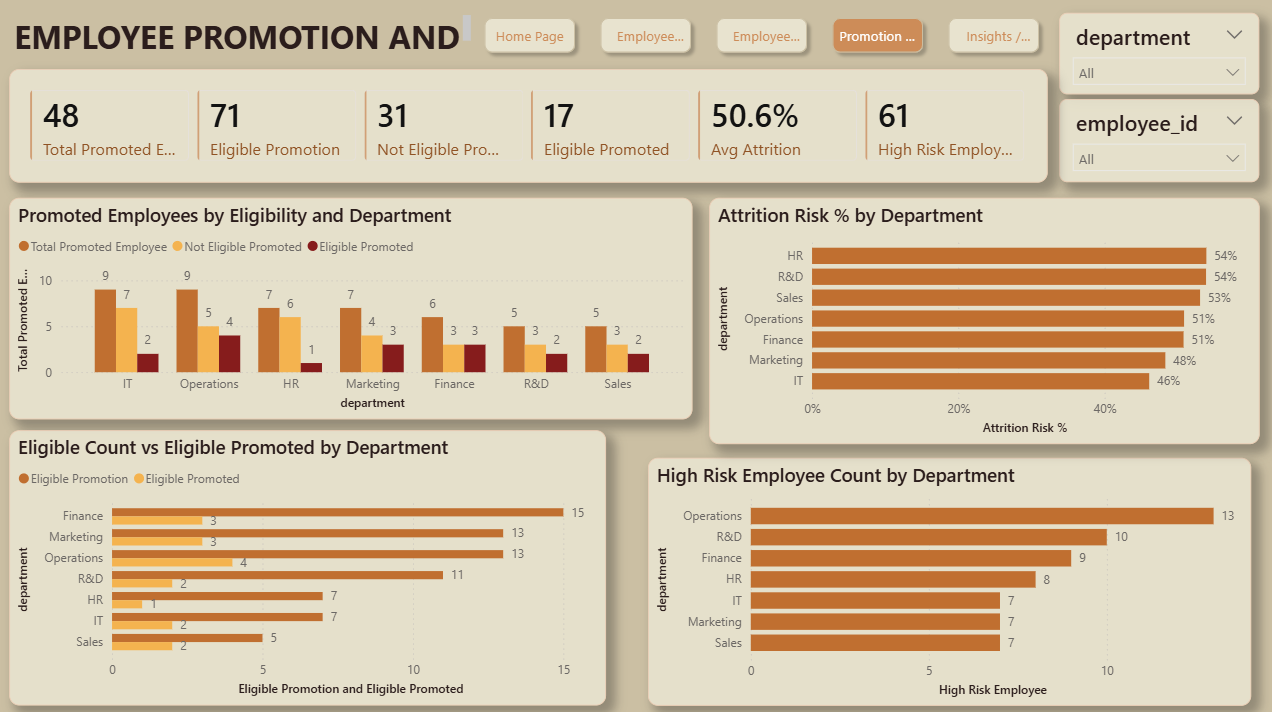

This screenshot's page, from the dashboard's own definition file:
{"tool":"powerbi","page":{"name":"Promotion & Attrition","canvas":[1280,720],"ordinal":3},"visuals":[{"type":"textbox","box":[11.7,11.7,466.7,56.7],"z":0},{"type":"slicer","fields":{"Values":["CPM_Properties_Performance_n_Promotion (1).department"]},"box":[1061.7,13.3,200,81.7],"z":1},{"type":"slicer","fields":{"Values":["CPM_Properties_Performance_n_Promotion (1).employee_id"]},"box":[1061.7,100,200,83.3],"z":2},{"type":"cardVisual","fields":{"Data":["CPM_Properties_Performance_n_Promotion (1).Total Promoted Employee","CPM_Properties_Performance_n_Promotion (1).Eligible Promotion","CPM_Properties_Performance_n_Promotion (1).Not Eligible Promoted","CPM_Properties_Performance_n_Promotion (1).Eligible Promoted","CPM_Properties_Performance_n_Promotion (1).Avg Attrition","CPM_Properties_Performance_n_Promotion (1).High Risk Employee"]},"box":[11.7,70,1038.3,113.3],"z":3},{"type":"clusteredColumnChart","title":"Promoted Employees by Eligibility and Department","fields":{"Category":["CPM_Properties_Performance_n_Promotion (1).department"],"Y":["CPM_Properties_Performance_n_Promotion (1).Total Promoted Employee","CPM_Properties_Performance_n_Promotion (1).Not Eligible Promoted","CPM_Properties_Performance_n_Promotion (1).Eligible Promoted"]},"box":[11.7,198.3,683.3,221.7],"z":4},{"type":"clusteredBarChart","title":"Eligible Count vs Eligible Promoted by Department","fields":{"Category":["CPM_Properties_Performance_n_Promotion (1).department"],"Y":["CPM_Properties_Performance_n_Promotion (1).Eligible Promotion","CPM_Properties_Performance_n_Promotion (1).Eligible Promoted"]},"box":[11.7,431.7,596.7,275],"z":5},{"type":"clusteredBarChart","title":"High Risk Employee Count by Department","fields":{"Category":["CPM_Properties_Performance_n_Promotion (1).department"],"Y":["CPM_Properties_Performance_n_Promotion (1).High Risk Employee"]},"box":[650,458.3,603.3,248.3],"z":7},{"type":"clusteredBarChart","title":"Attrition Risk % by Department","fields":{"Category":["CPM_Properties_Performance_n_Promotion (1).department"],"Y":["CPM_Properties_Performance_n_Promotion (1).Attrition Risk %"]},"box":[711.7,198.3,550,246.7],"z":8},{"type":"pageNavigator","box":[478.3,11.7,571.7,50],"z":9}]}

Visuals, with their boxes in screenshot pixels (x1, y1, x2, y2), scaled from the page's 1280x720 canvas onto the 1272x712 screenshot:
textbox: 12/12/475/68
slicer - CPM_Properties_Performance_n_Promotion (1).department: 1055/13/1254/94
slicer - CPM_Properties_Performance_n_Promotion (1).employee_id: 1055/99/1254/181
cardVisual - CPM_Properties_Performance_n_Promotion (1).Total Promoted Employee x CPM_Properties_Performance_n_Promotion (1).Eligible Promotion: 12/69/1043/181
"Promoted Employees by Eligibility and Department" clusteredColumnChart: 12/196/691/415
"Eligible Count vs Eligible Promoted by Department" clusteredBarChart: 12/427/605/699
"High Risk Employee Count by Department" clusteredBarChart: 646/453/1245/699
"Attrition Risk % by Department" clusteredBarChart: 707/196/1254/440
pageNavigator: 475/12/1043/61
